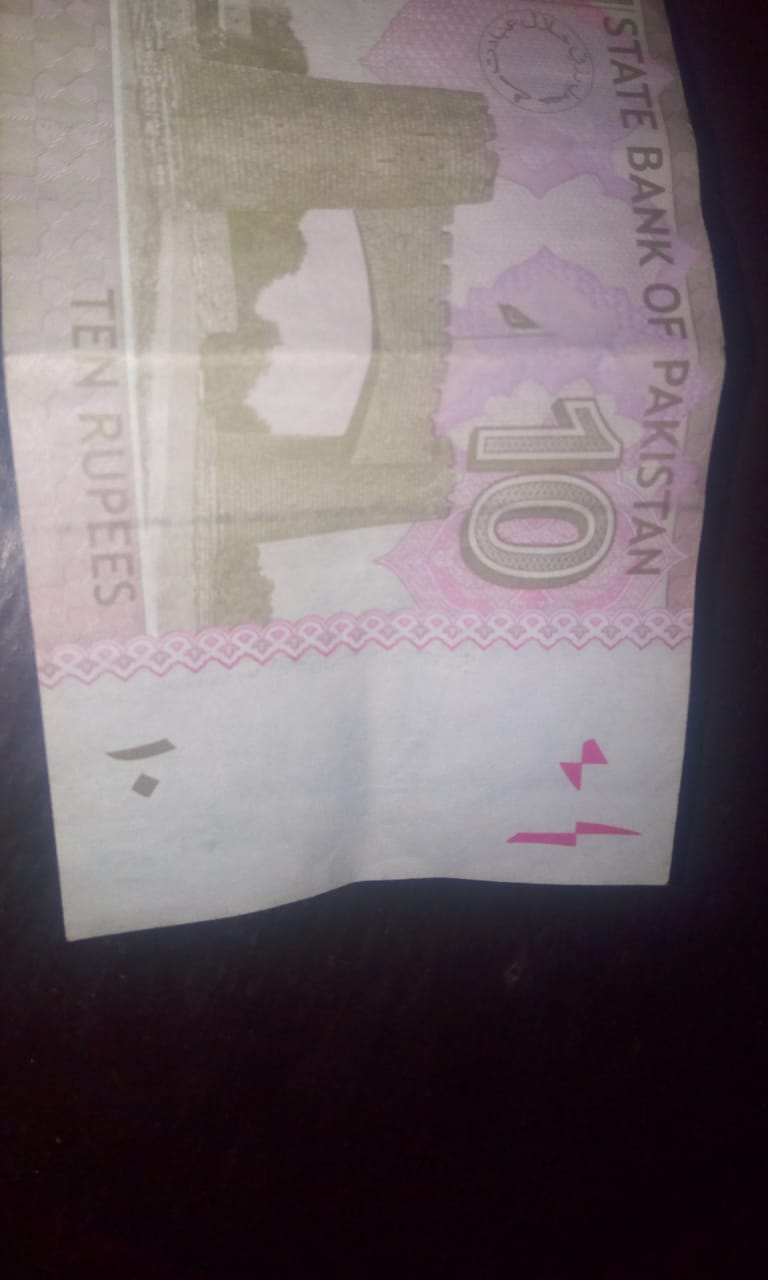10 rupee: (5, 22, 727, 1008)
